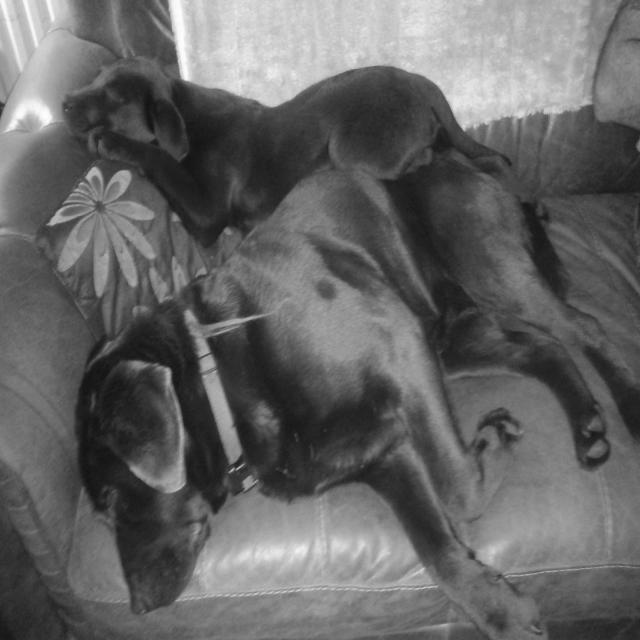laying down: (73, 172, 640, 640), (56, 46, 516, 234)
